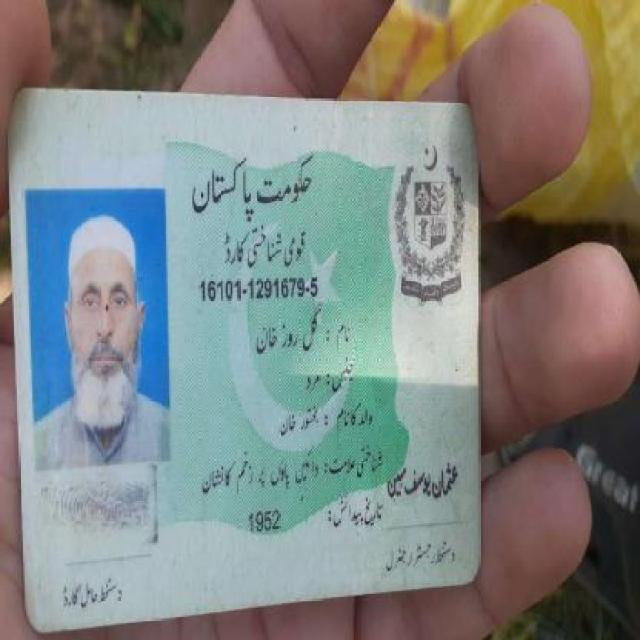Front: (6, 85, 485, 609)
